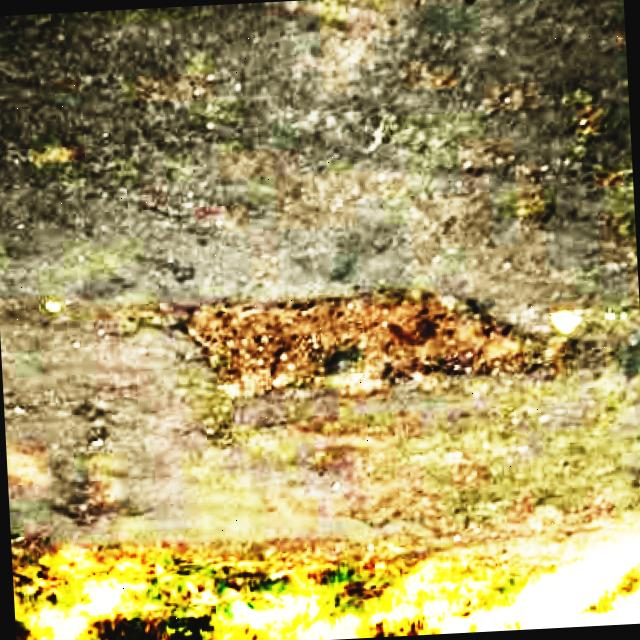pothole: (144, 271, 548, 406), (566, 68, 636, 222)
